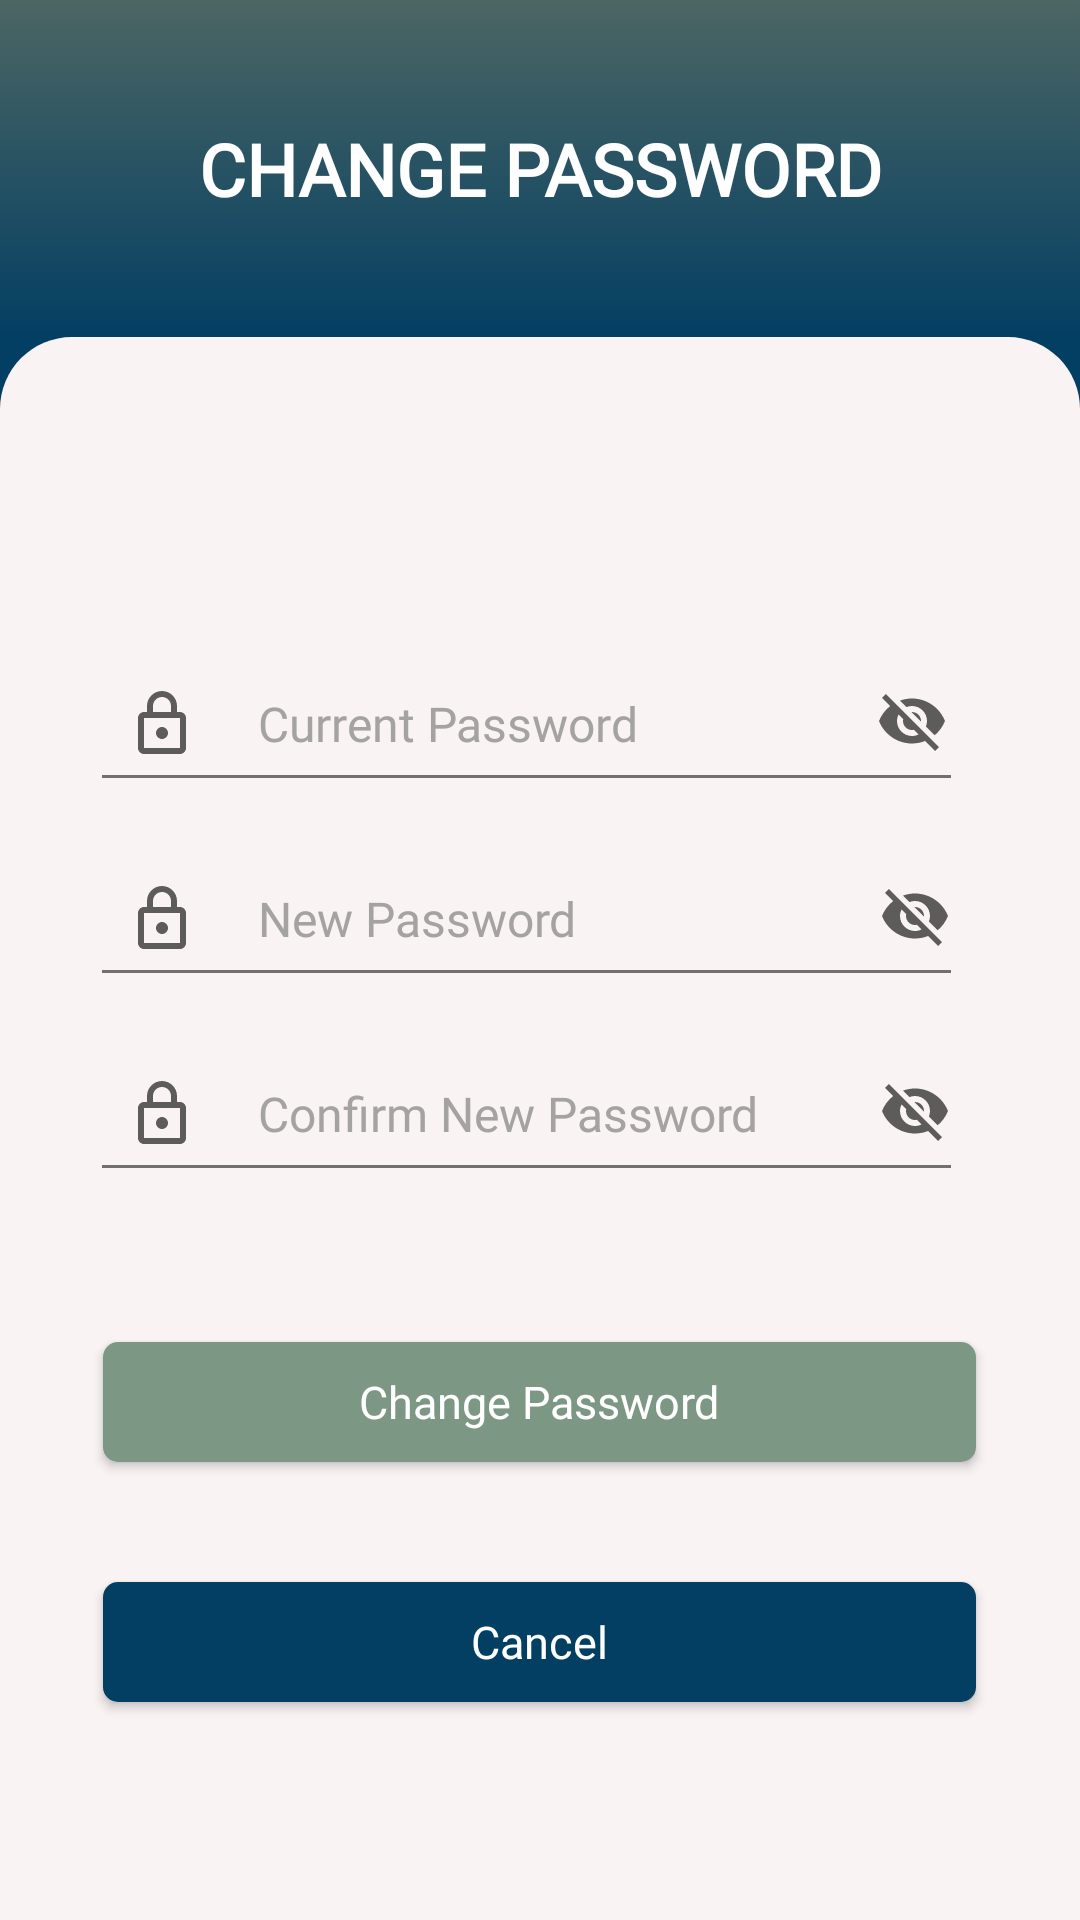

Where to tap for icons on this 1080×1920 app screen, as [x,y]:
visibility off: [912,722], [915,917], [915,1112]
